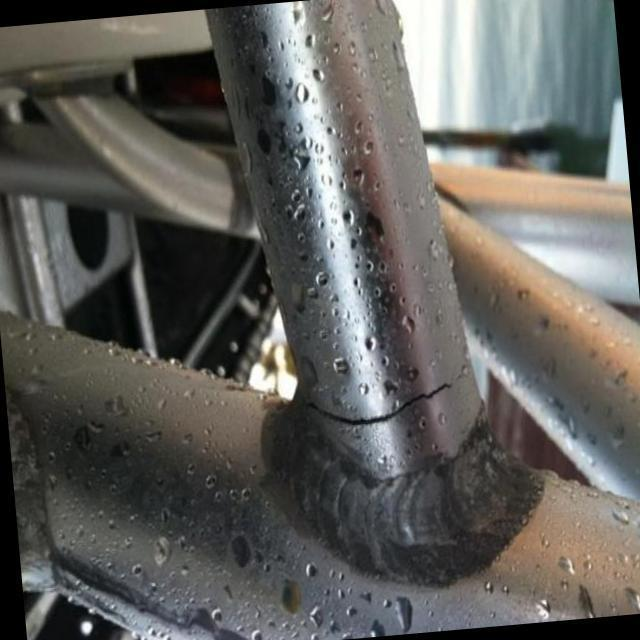defect: (293, 374, 458, 433)
